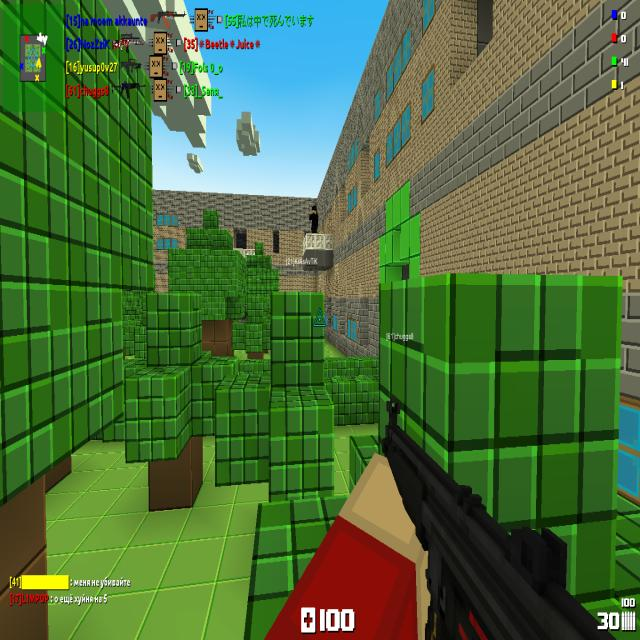enemy: (309, 204, 319, 234)
